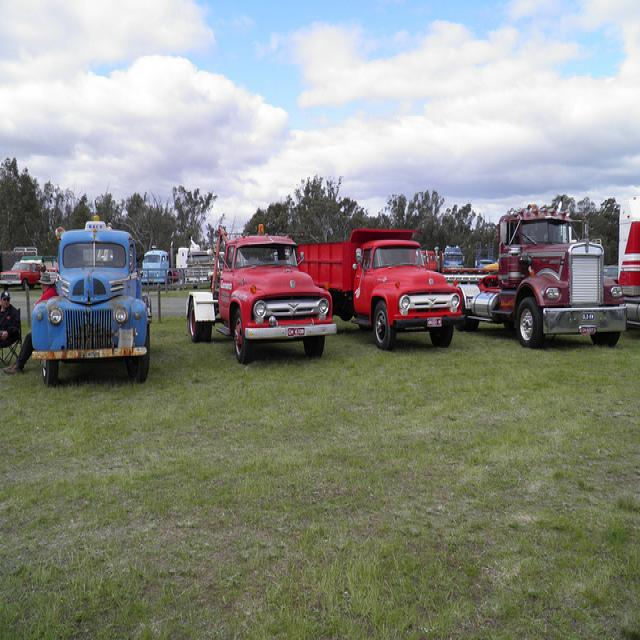Vehicle: (439, 194, 628, 349), (298, 226, 462, 351), (182, 228, 330, 362), (32, 220, 150, 388), (616, 195, 640, 328), (142, 240, 184, 285), (0, 261, 57, 290), (442, 247, 462, 264), (422, 250, 438, 271)
